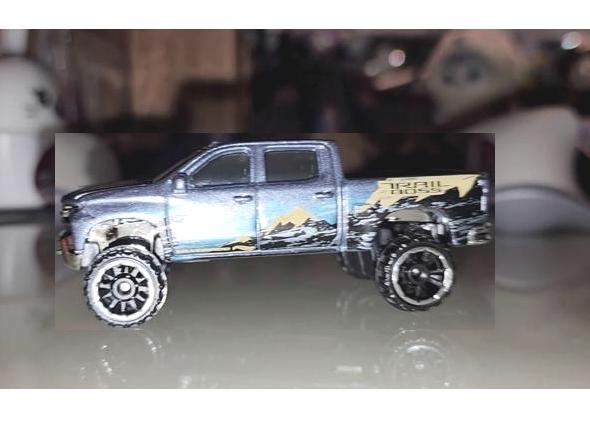toy-car: (54, 133, 494, 330)
